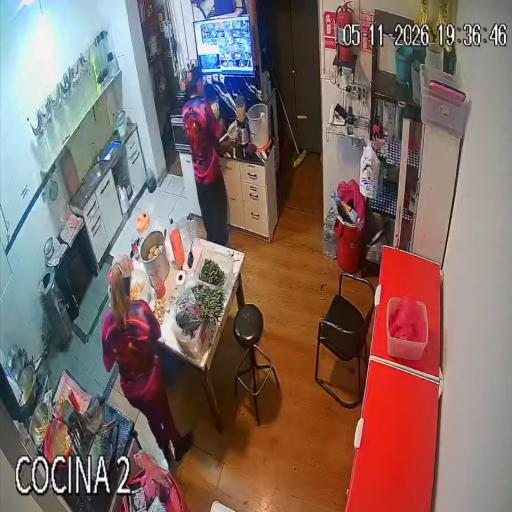Envase Ketchup: (66, 389, 79, 411)
Envase Llajua: (59, 395, 66, 406)
Jarra2: (136, 211, 154, 244)
Persona1: (183, 66, 228, 245)
Persona2: (102, 255, 191, 460)
Tapa de olla: (43, 237, 54, 262)
Taper2: (197, 244, 236, 297)
Taper3: (170, 279, 211, 364)
Taper4: (130, 269, 151, 302)
olla: (139, 230, 169, 287)
